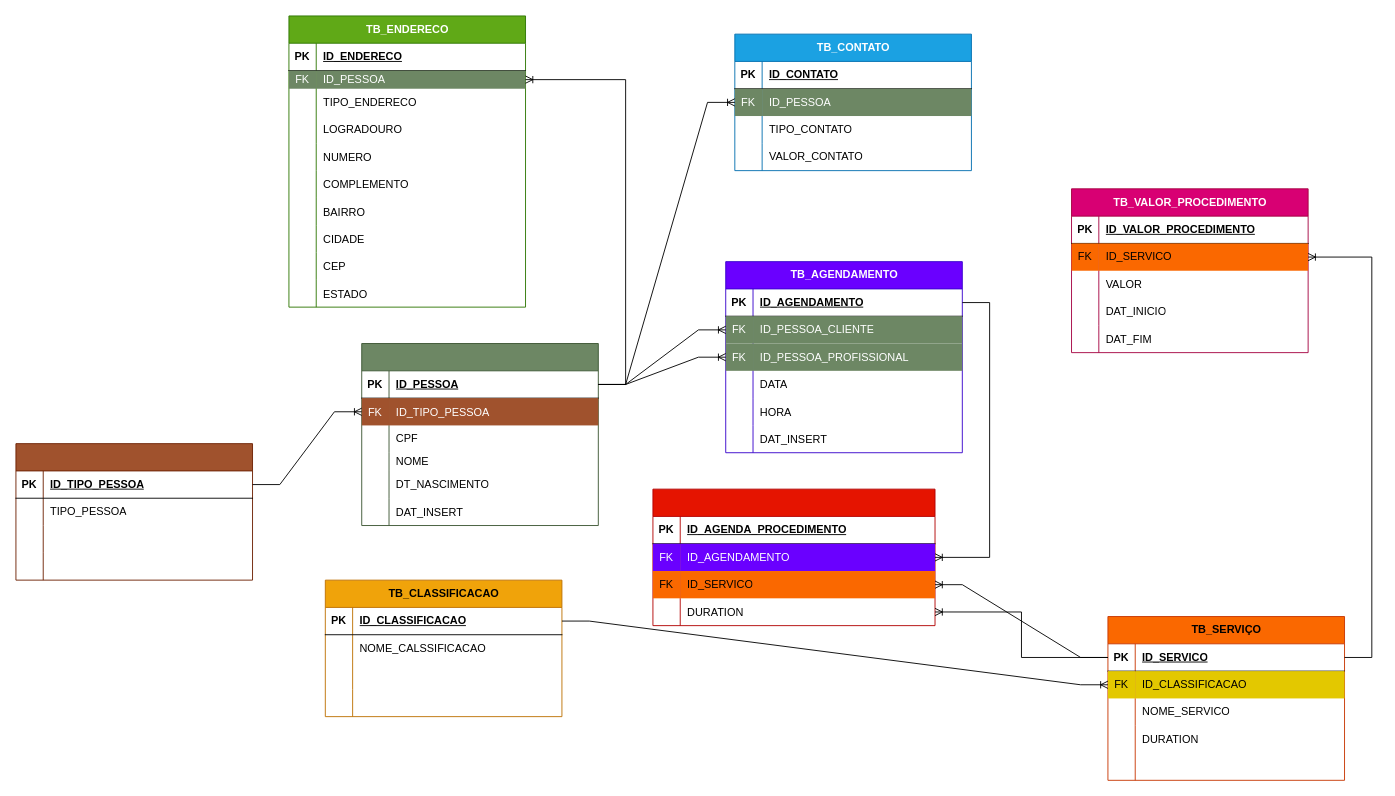
The diagram is 1395 pixels wide and 796 high, and some of its shapes have lost their labels. Each missing label, with the box of its shape:
TB_AGENDA_PROCEDIMENTO: (652, 488, 935, 626)
TB_PESSOA: (361, 343, 598, 526)
TB_TIPO_PESSOA: (15, 443, 253, 580)
